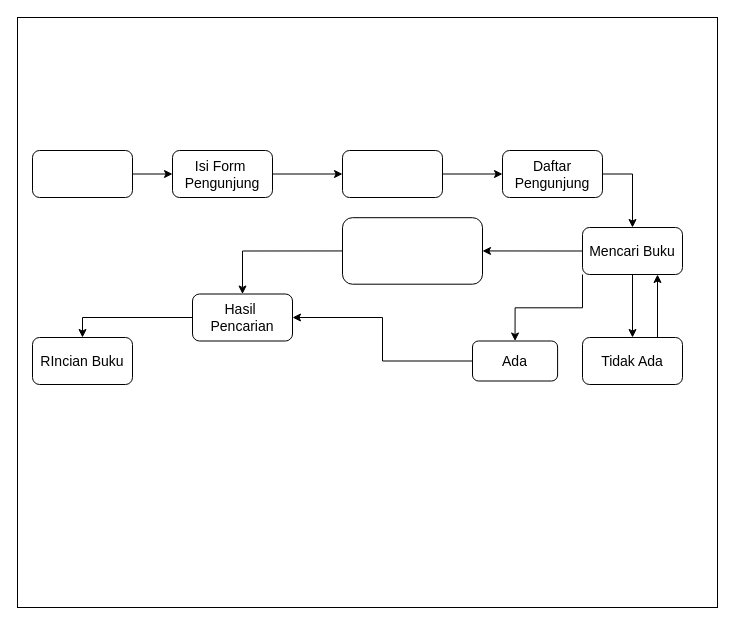
Some shapes in this 735 by 625 pixel diagram are drawn without their labels. The shapes that lost their labels are listed below. From the top down, each one's centre as x and y in pixels, then its label:
[82,174]: User
[392,174]: Kirim
[412,250]: Mencari Buku dengan kata kunci Judul/penerbit
